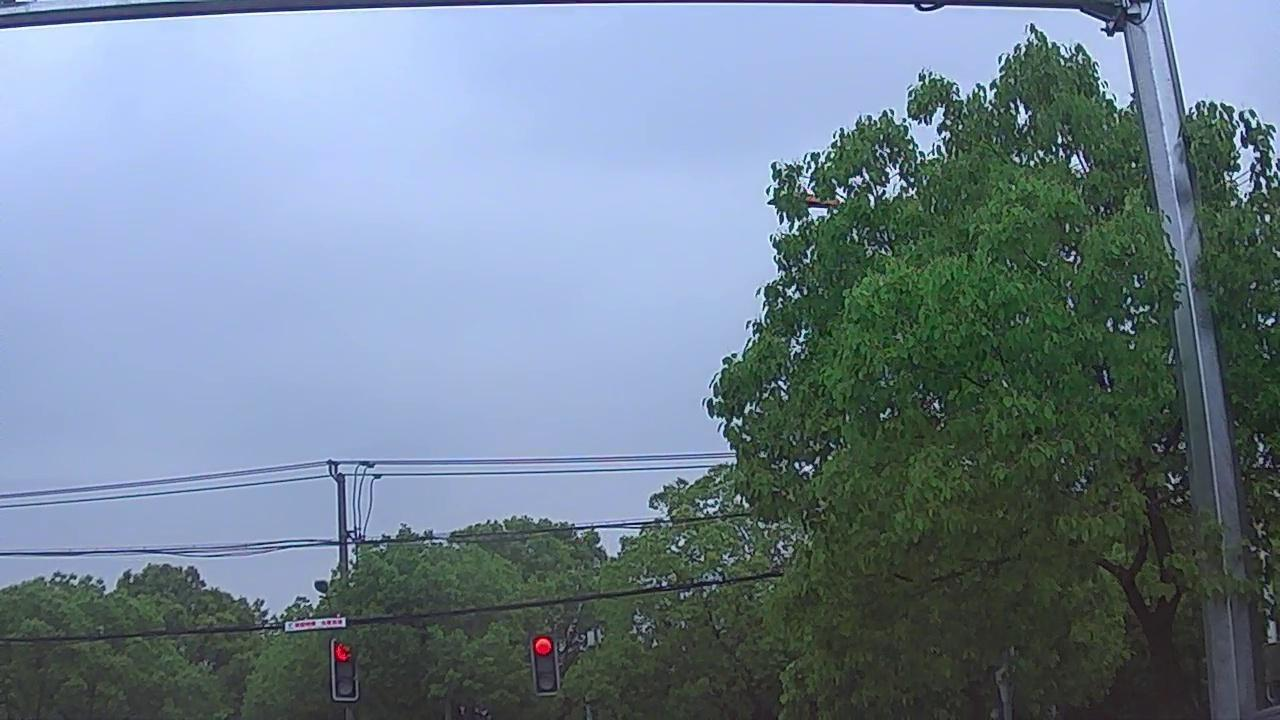traffic_light: (534, 630, 556, 693), (336, 641, 356, 701)
